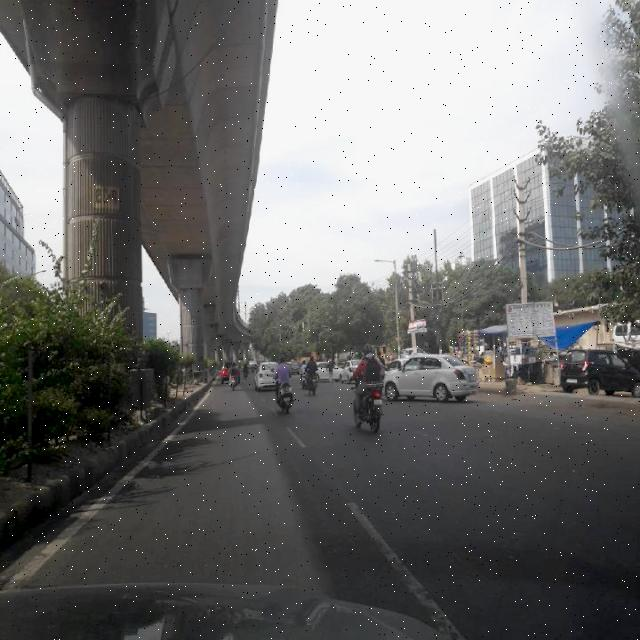D44: (350, 492, 516, 636)
